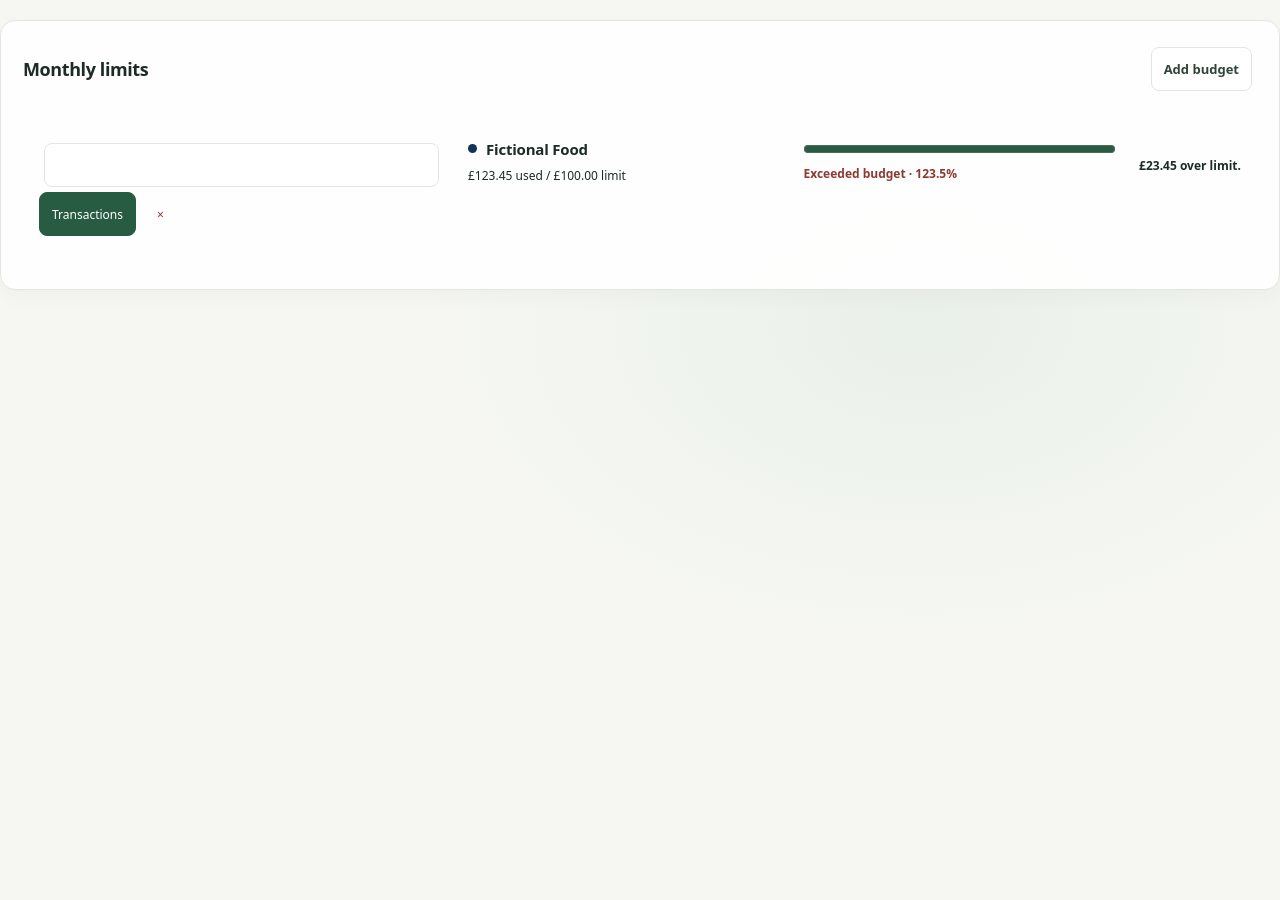
monthly budgets › rejects fractional pence and surfaces failed saves
The image size is (1280, 900).
Expected: the heading "Fictional Food" is shown, top-left (486, 138), bottom-right (588, 158)
Click the button "Add budget".
click(1201, 69)  # box top-left (1151, 47), bottom-right (1252, 91)
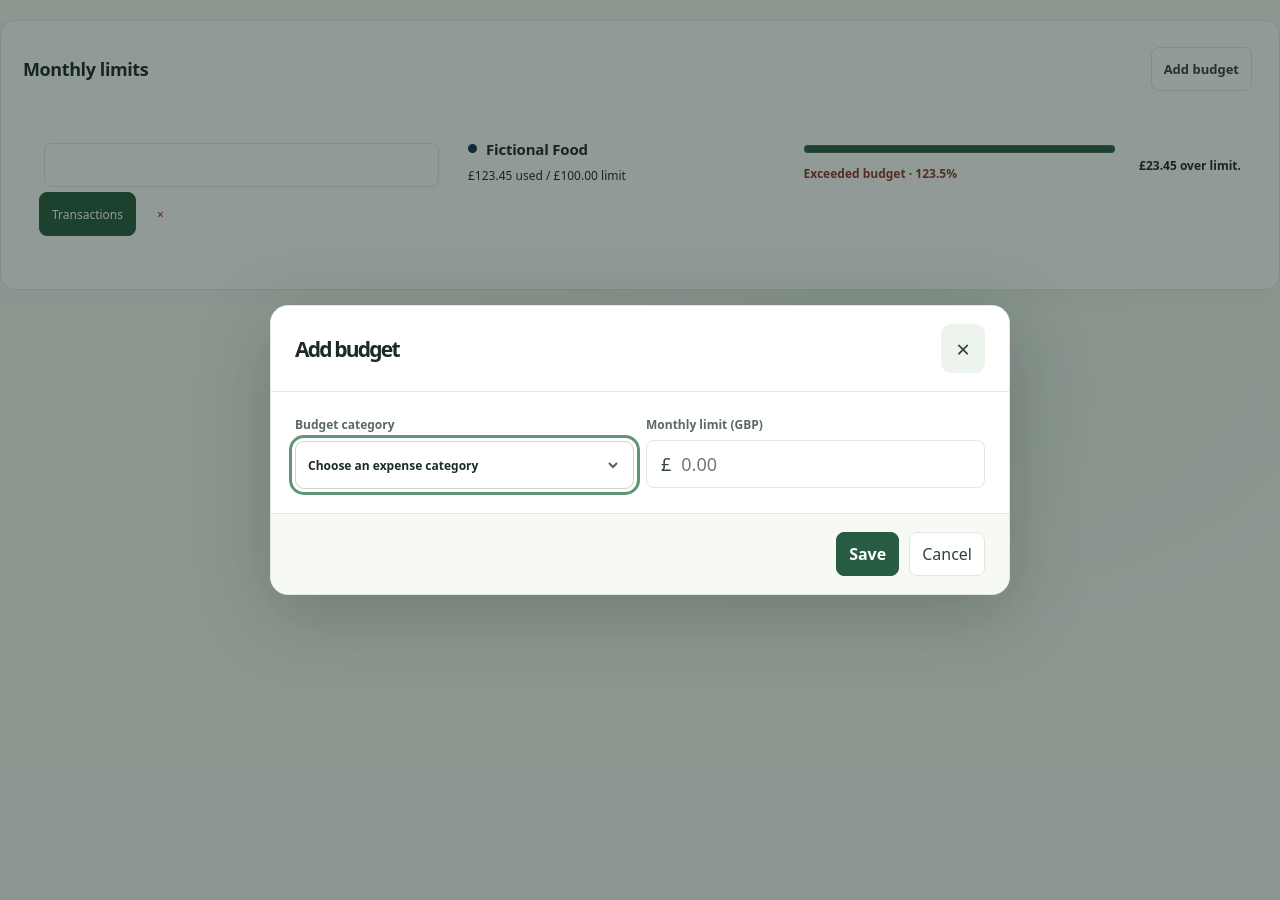
Select "Fictional Food" in the dropdown labelled "Budget category" at coordinates (464, 465), box top-left (295, 441), bottom-right (634, 489)
Type "1.001" into the field labelled "Monthly limit (GBP)".
click(826, 464); type("1.001")  # box top-left (681, 440), bottom-right (970, 486)
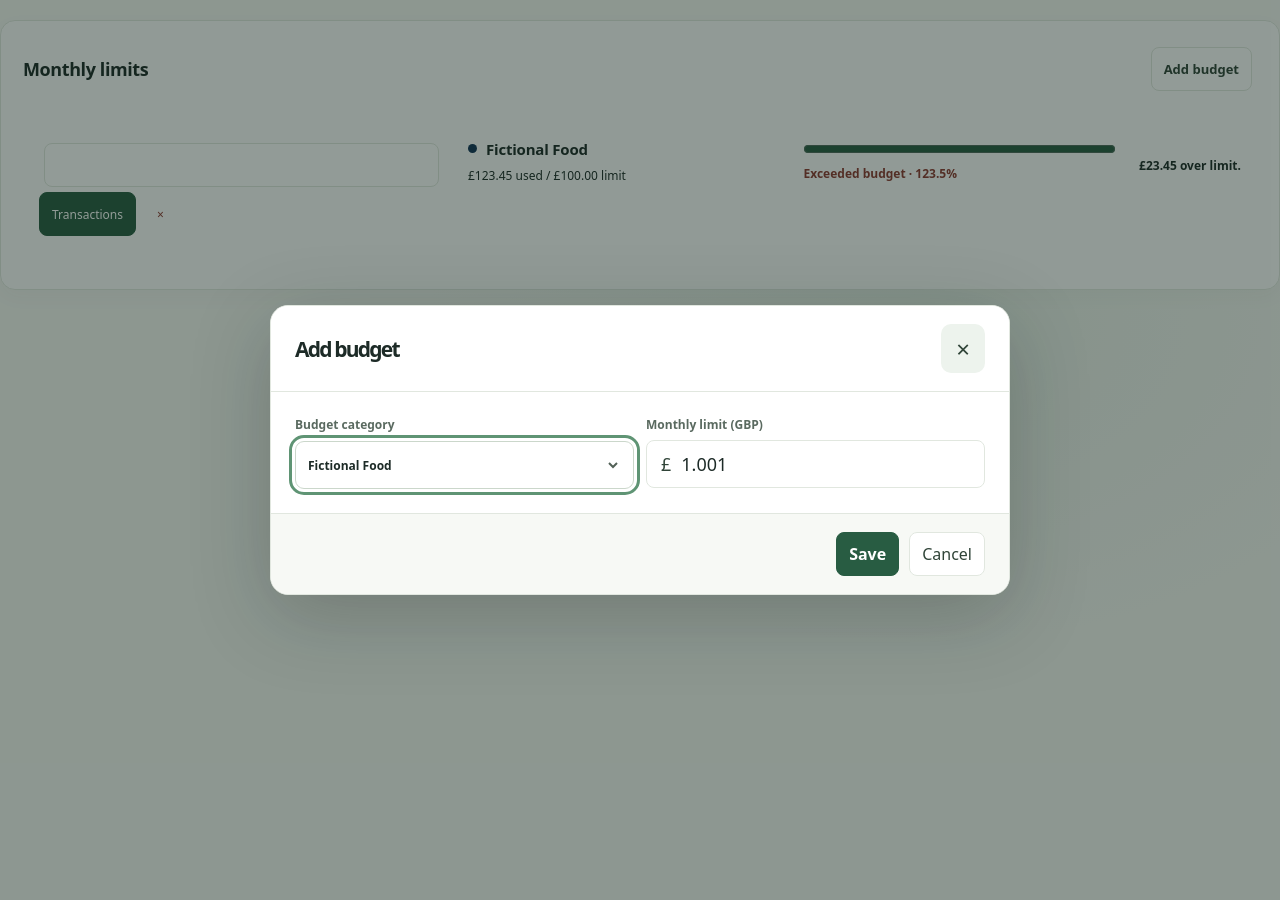
Click the button with aria-label "Save monthly budget".
click(868, 554)  # box top-left (836, 532), bottom-right (899, 576)
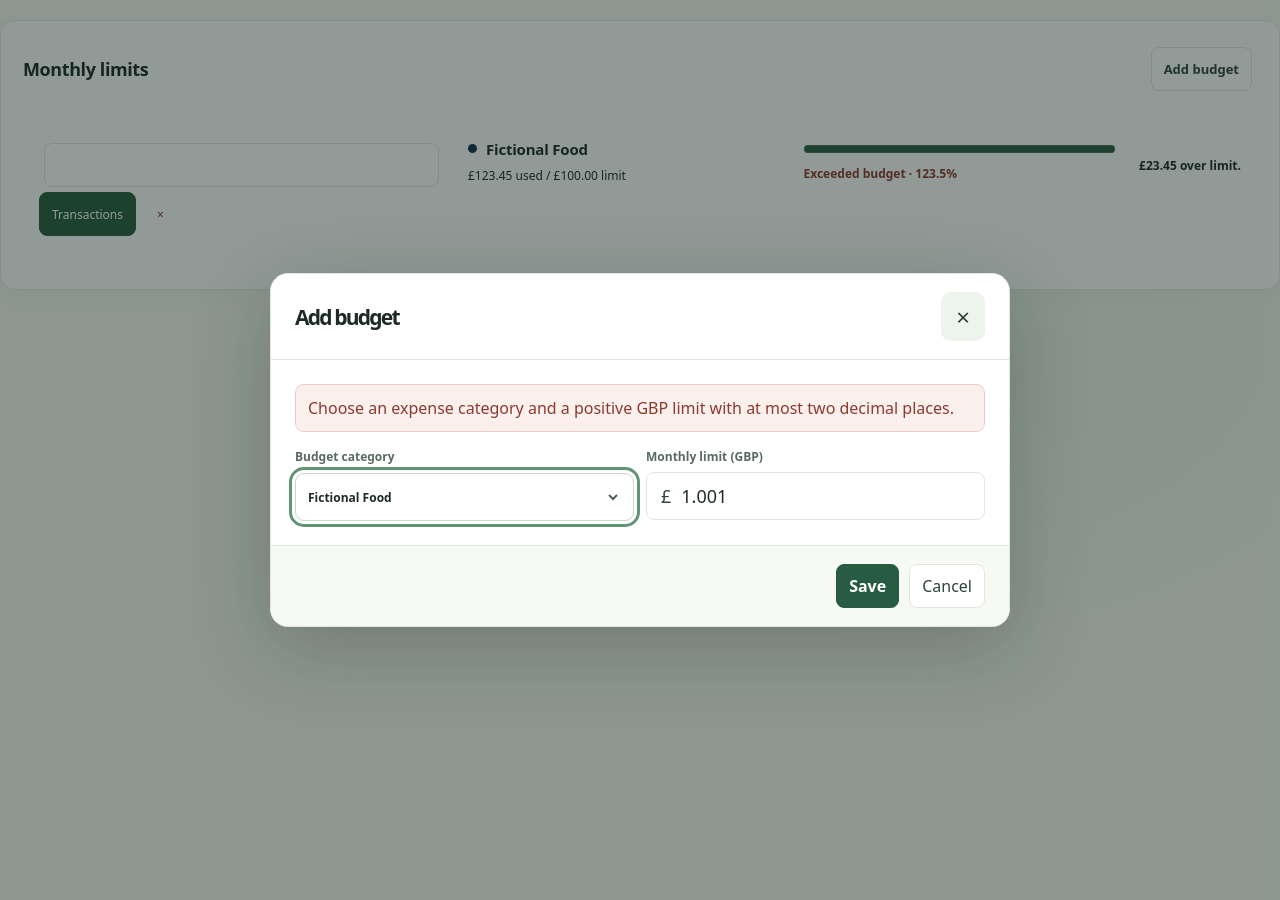
Expected: the message shows "positive GBP limit", top-left (308, 397), bottom-right (954, 419)
Replace the text in the field labelled "Monthly limit (GBP)" with "1.00" at coordinates (826, 496), box top-left (681, 472), bottom-right (970, 518)
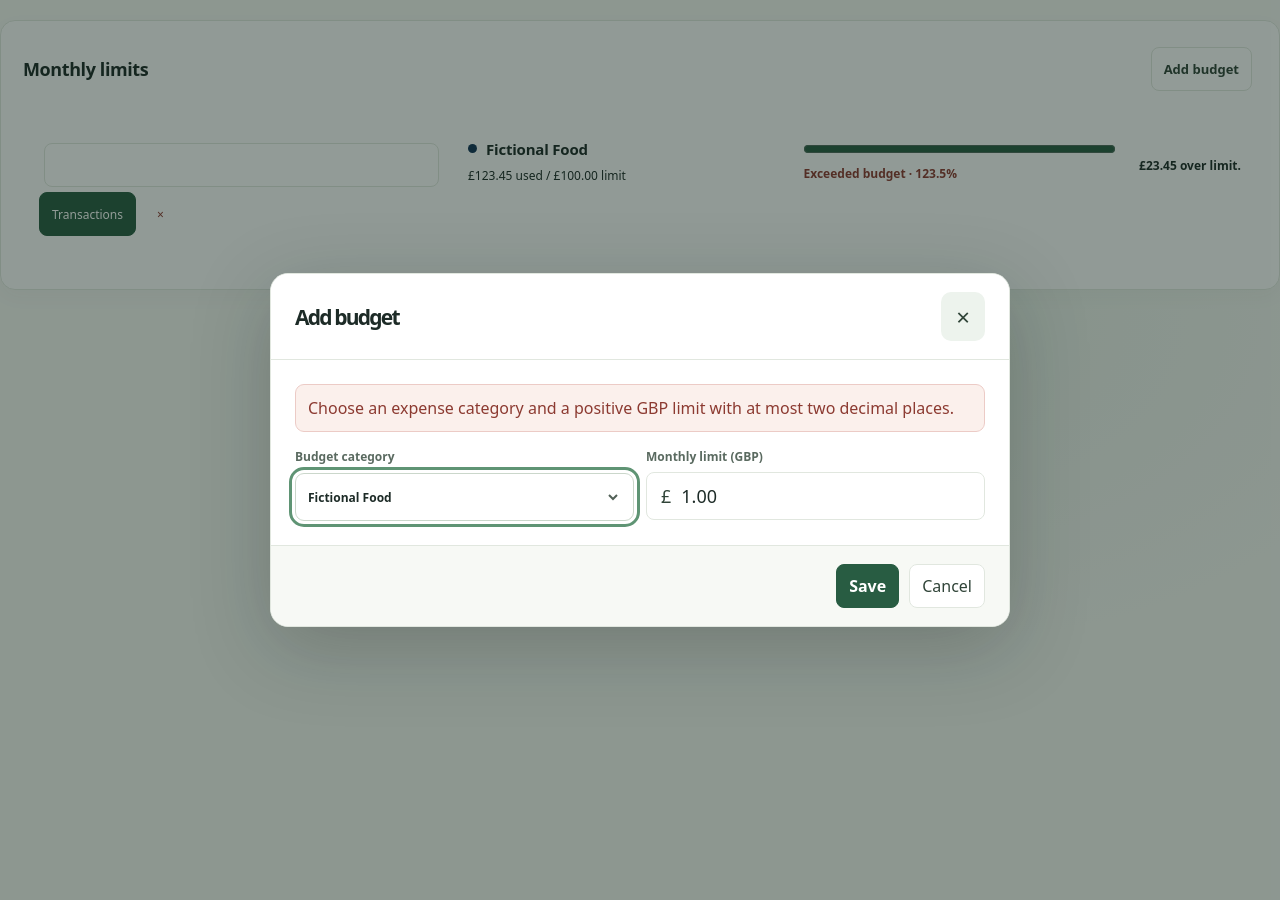
Click the button with aria-label "Save monthly budget".
click(868, 586)  # box top-left (836, 564), bottom-right (899, 608)
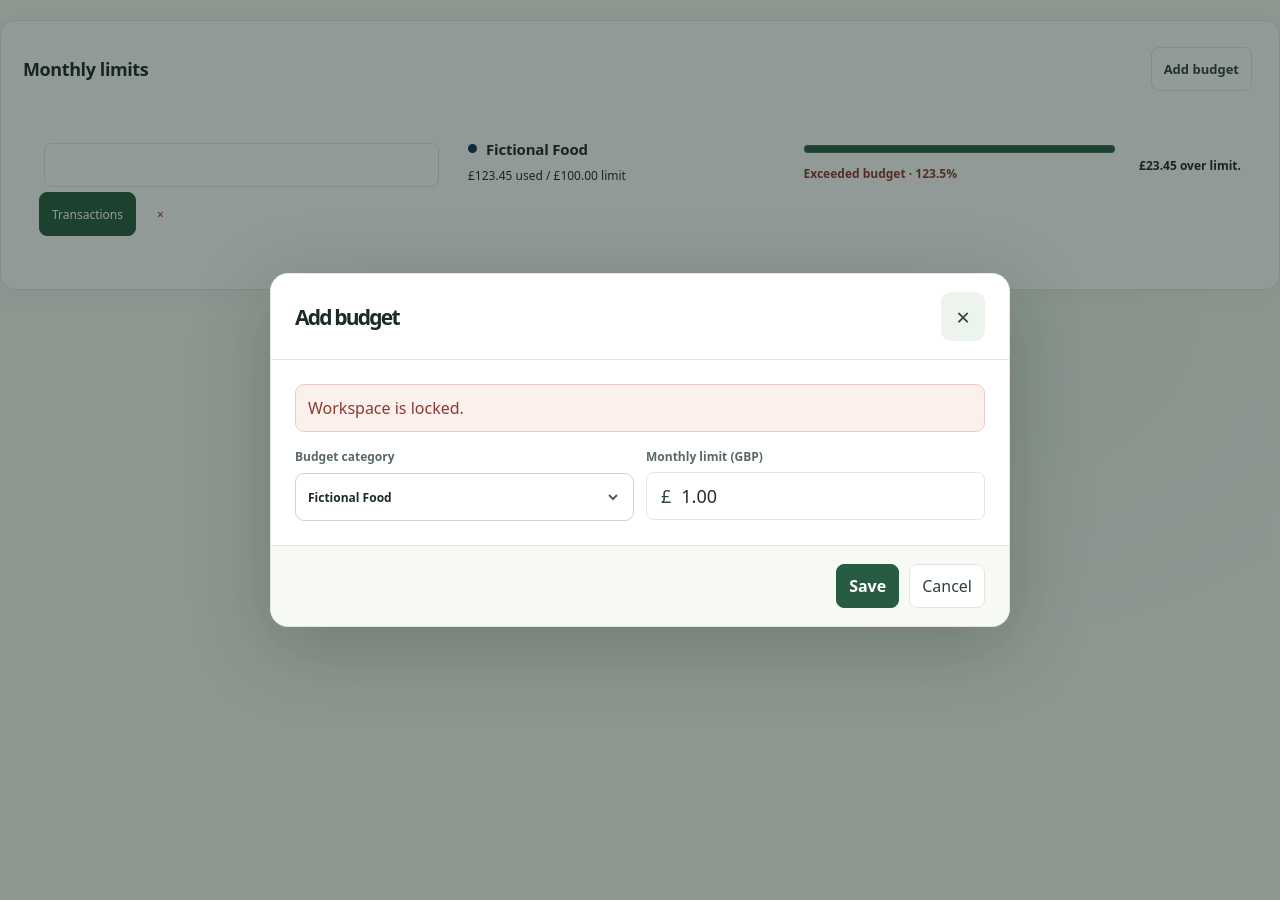
Expected: the message reads "Workspace is locked.", top-left (308, 397), bottom-right (464, 419)
Click the button with aria-label "Cancel budget".
click(947, 586)  # box top-left (909, 564), bottom-right (985, 608)
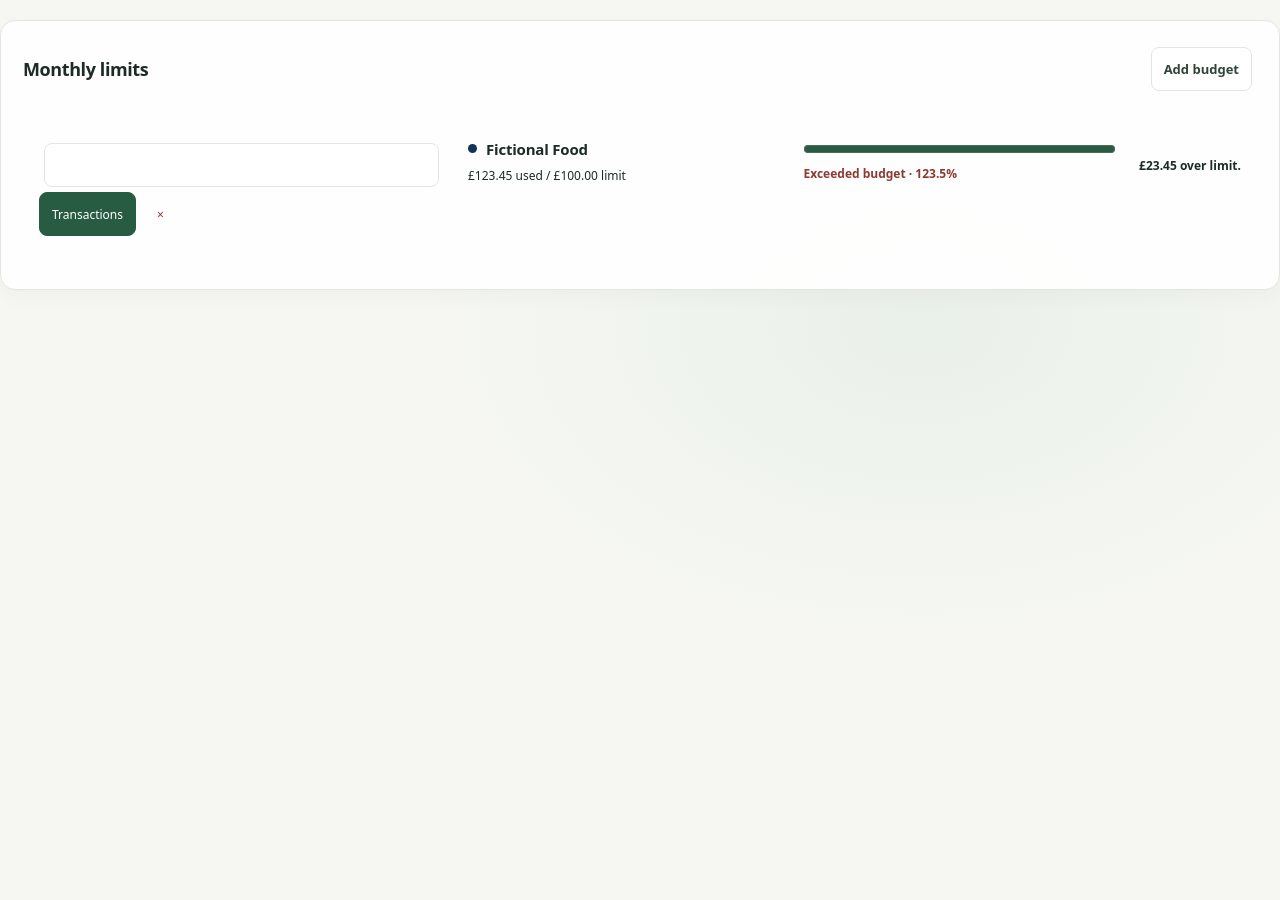
Expected: the dialog is gone
Expected: the message "Workspace is locked." is gone
